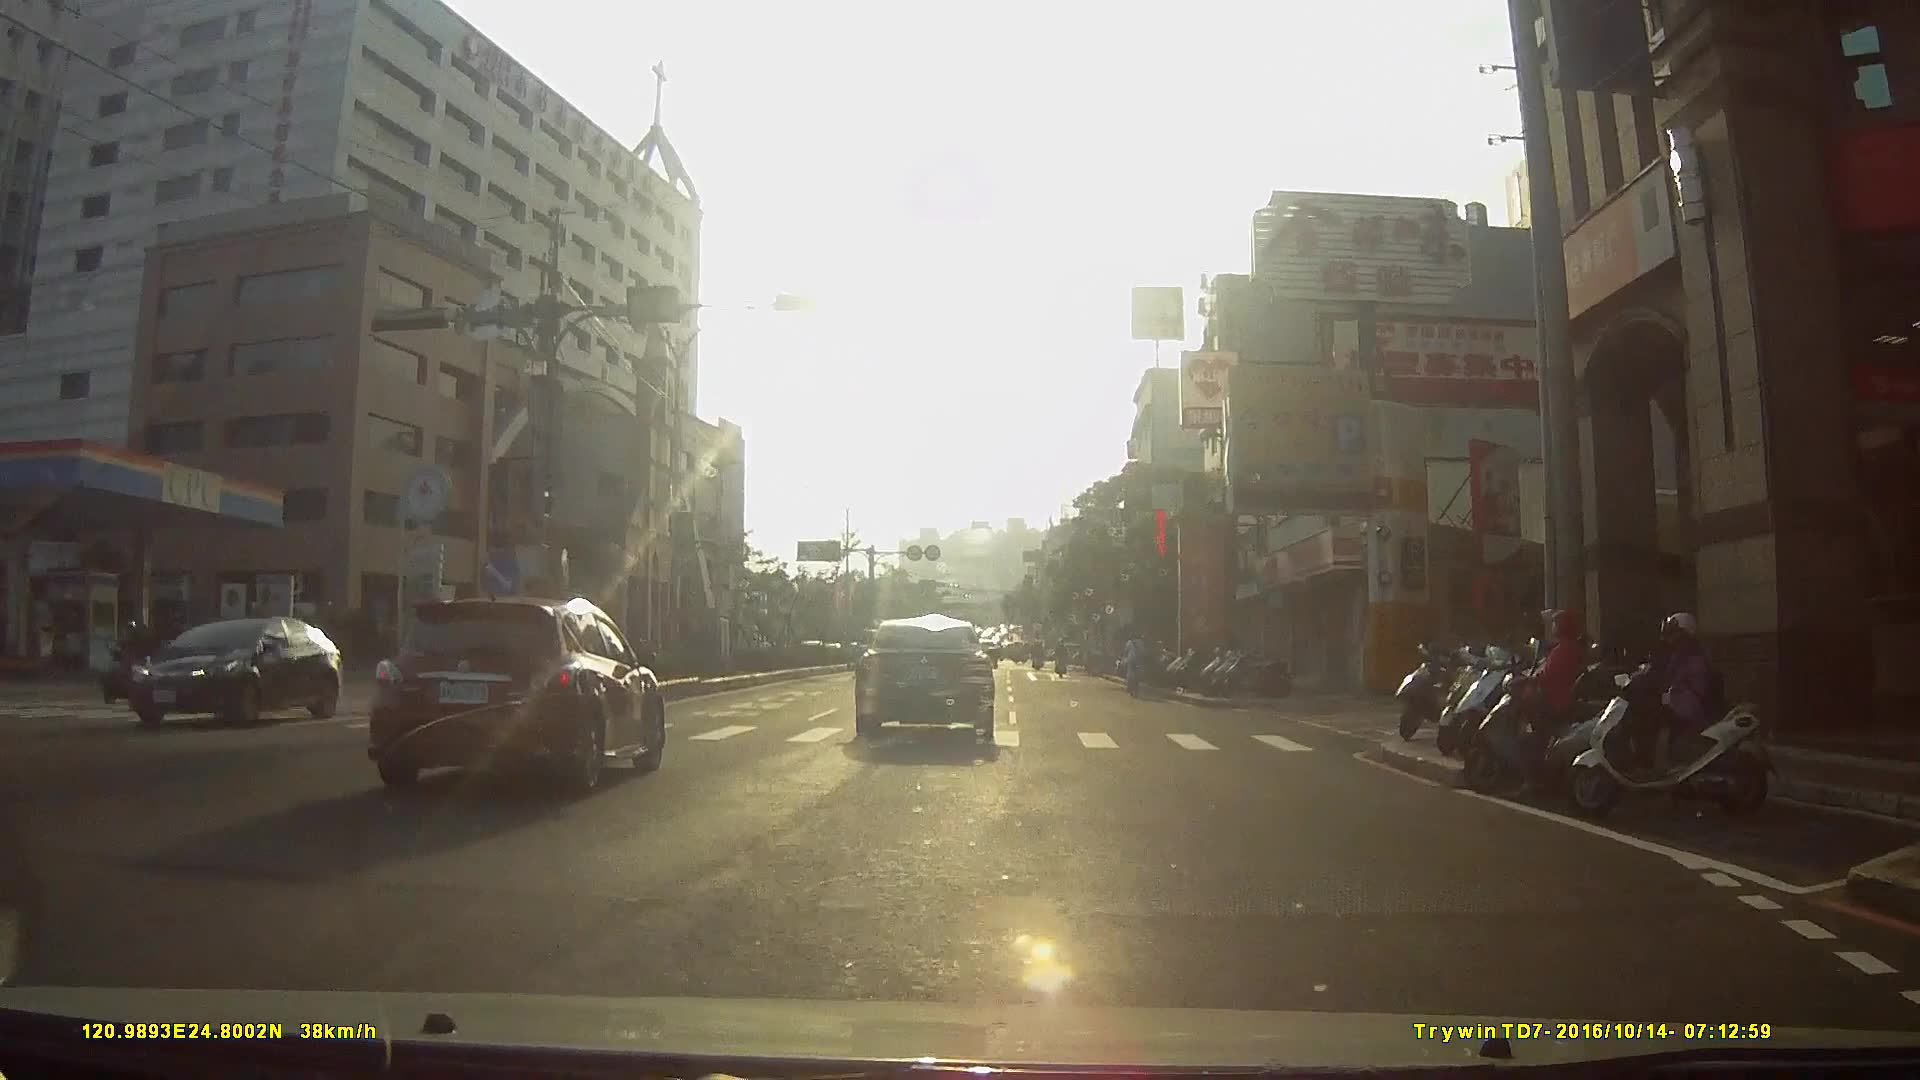rider: (1556, 608, 1785, 825), (1461, 597, 1667, 807), (104, 619, 150, 699), (1122, 628, 1151, 703)
vehicle: (371, 577, 679, 796), (118, 611, 355, 734), (849, 607, 1004, 739), (763, 607, 822, 662)
